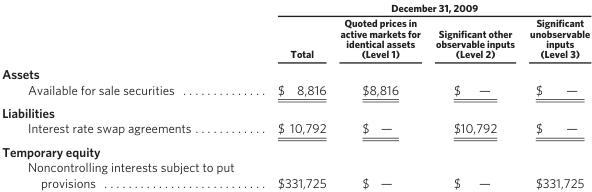table: (1, 1, 589, 189)
table column: (1, 1, 255, 189), (332, 1, 427, 189), (427, 1, 521, 189), (255, 1, 332, 189), (521, 1, 589, 189)
table column header: (1, 1, 589, 62)
table projected row header: (1, 62, 589, 81), (1, 100, 589, 119), (1, 139, 589, 158)
table row: (1, 14, 589, 62), (1, 158, 589, 189), (1, 119, 589, 139), (1, 62, 589, 81), (1, 81, 589, 100), (1, 100, 589, 119), (1, 139, 589, 158), (1, 1, 589, 14)
table spanning cell: (255, 1, 589, 14)
